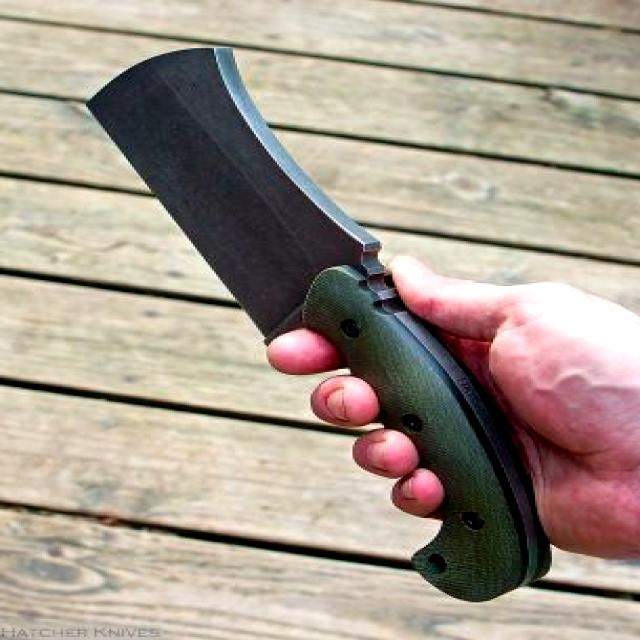cleaver: (84, 44, 559, 600)
